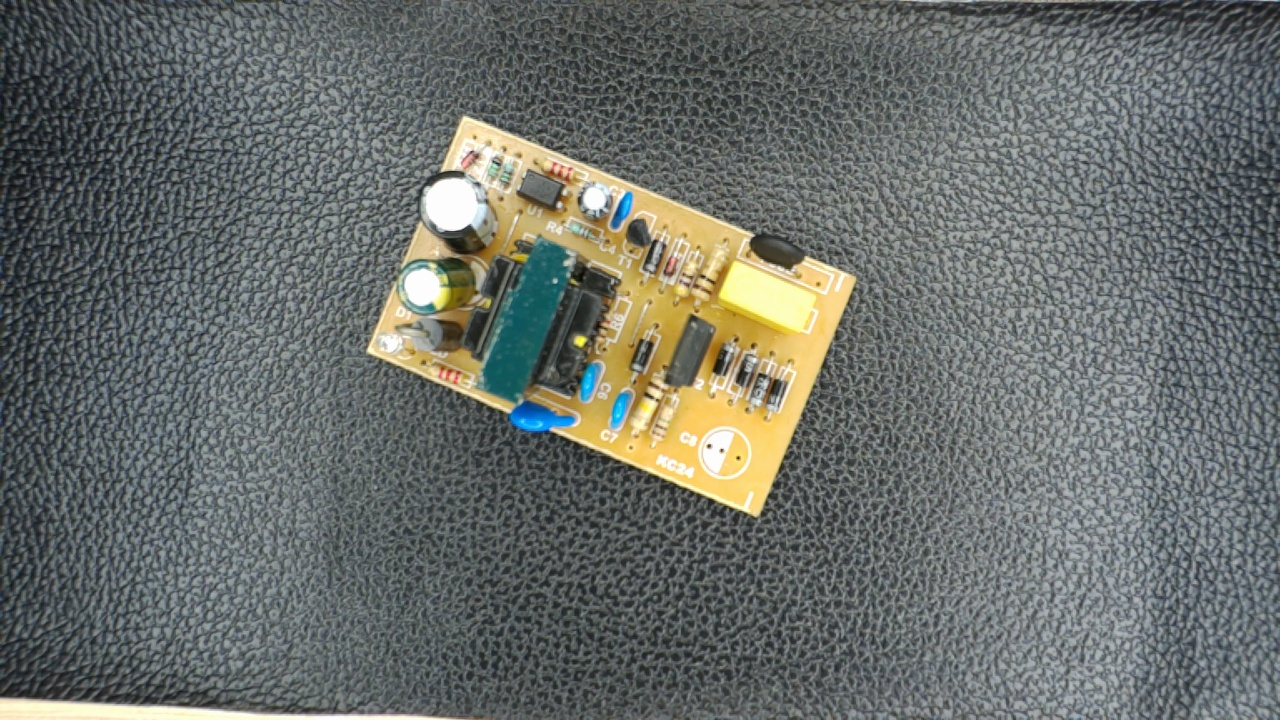fuse: (741, 230, 813, 278)
mov: (500, 389, 585, 434)
optocoupler: (512, 164, 572, 215)
